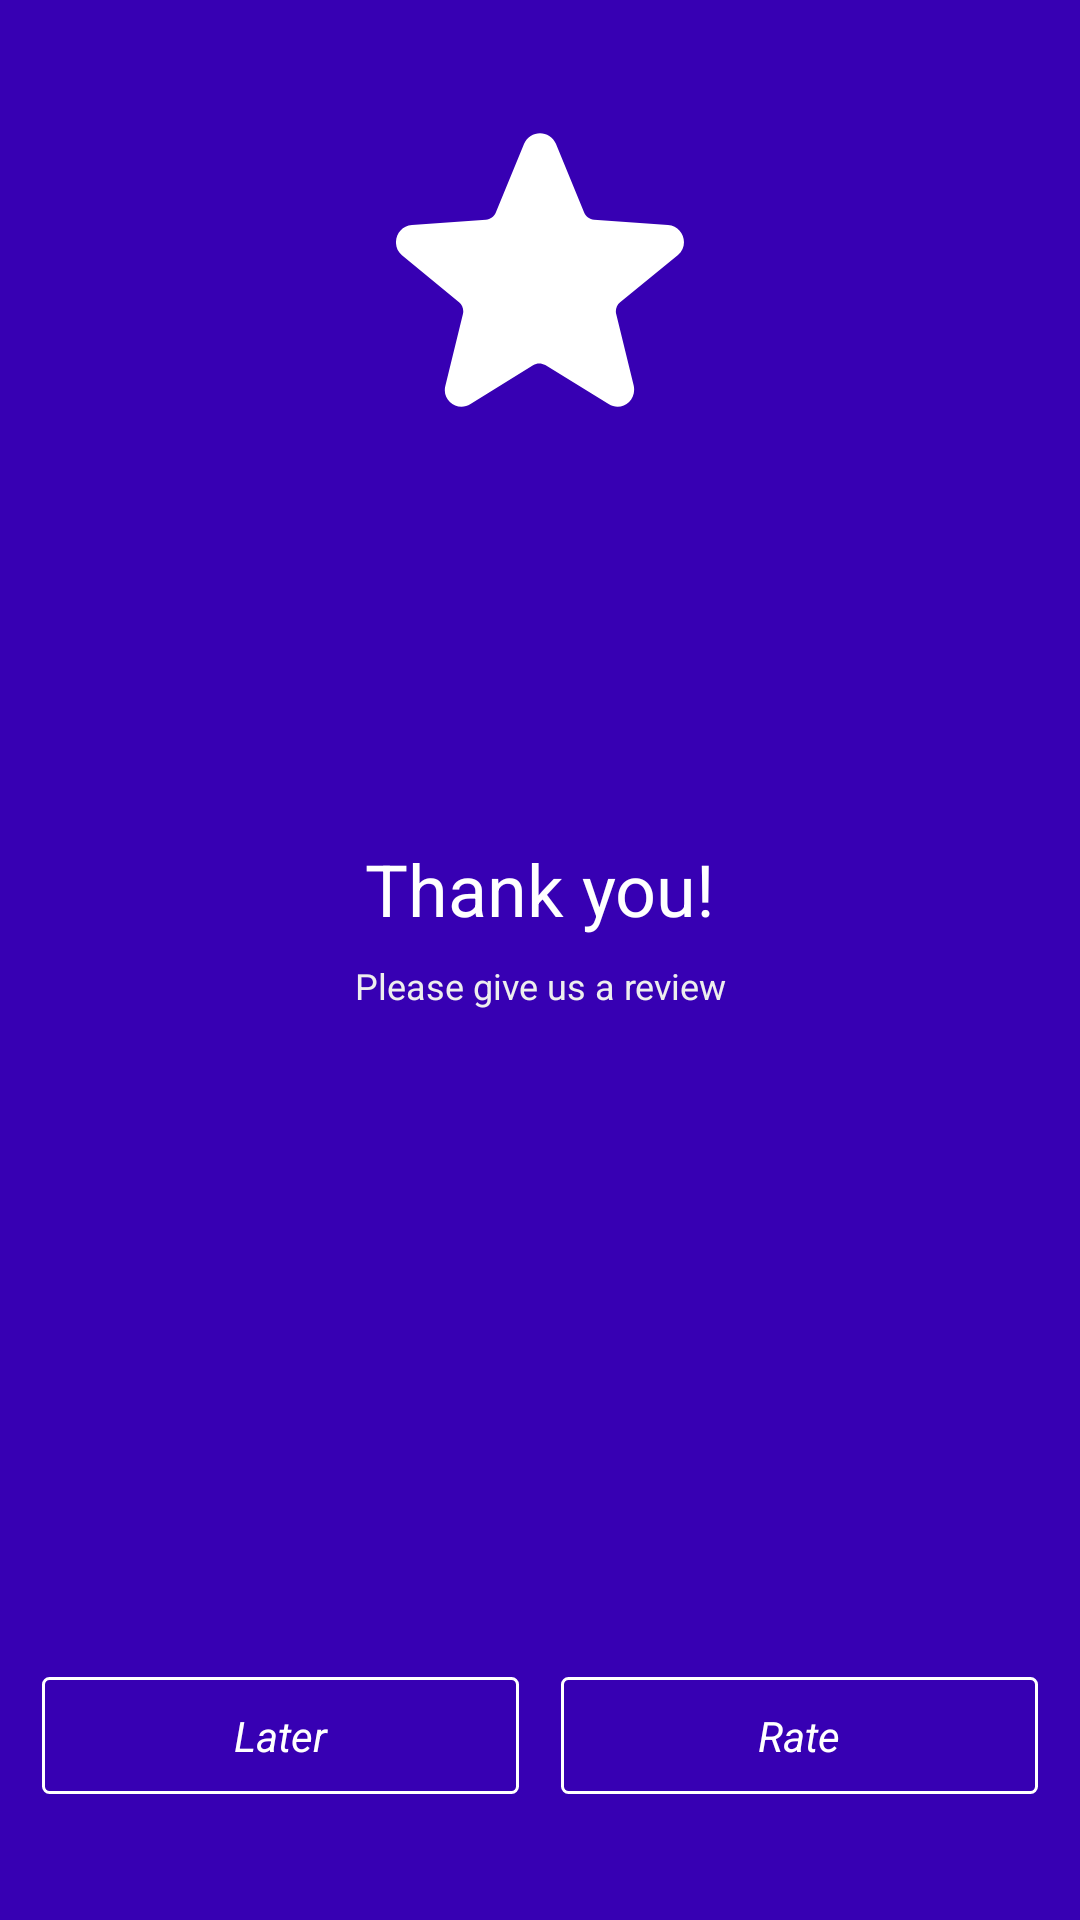

Screen size 1080w x 1920h. Icon name, then its center in pixels as (x=x, y=y):
rate: (x=540, y=270)
